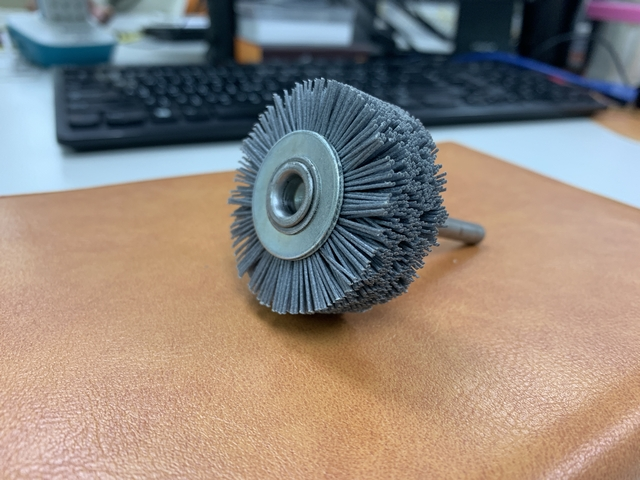Wheel Brush: (207, 78, 498, 331), (231, 78, 499, 307), (251, 83, 500, 289)
